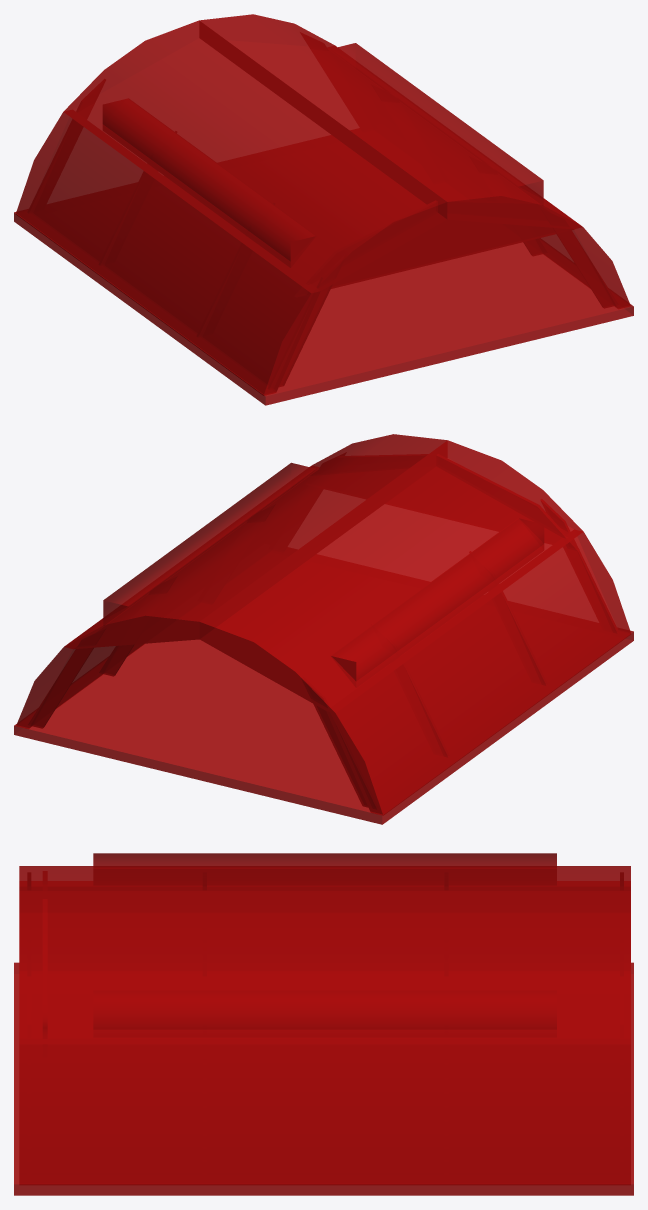
The model's file is SM_Bld_Hangar_Open_01_Collision.fbx.
3 views of the same model, one above another, from view 1: azimuth 30°, elevation 25°; view 2: azimuth 150°, elevation 25°; view 3: azimuth 270°, elevation 25° (orthographic). The views are drawn at different scales.
Visible parts, largest first — view 1: SM_Bld_Hangar_Open_01_Collision; view 2: SM_Bld_Hangar_Open_01_Collision; view 3: SM_Bld_Hangar_Open_01_Collision.
Part boxes in pixels (<box>): SM_Bld_Hangar_Open_01_Collision: <box>14,14,633,405</box>; SM_Bld_Hangar_Open_01_Collision: <box>14,434,633,824</box>; SM_Bld_Hangar_Open_01_Collision: <box>14,853,633,1195</box>.
Size of the model in its own units: 3063 by 1249 by 3621.
